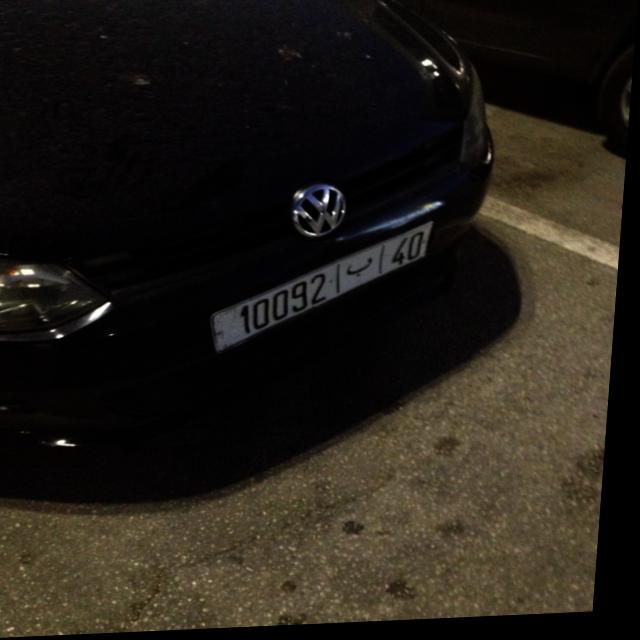License-Plate: (216, 226, 438, 354)
